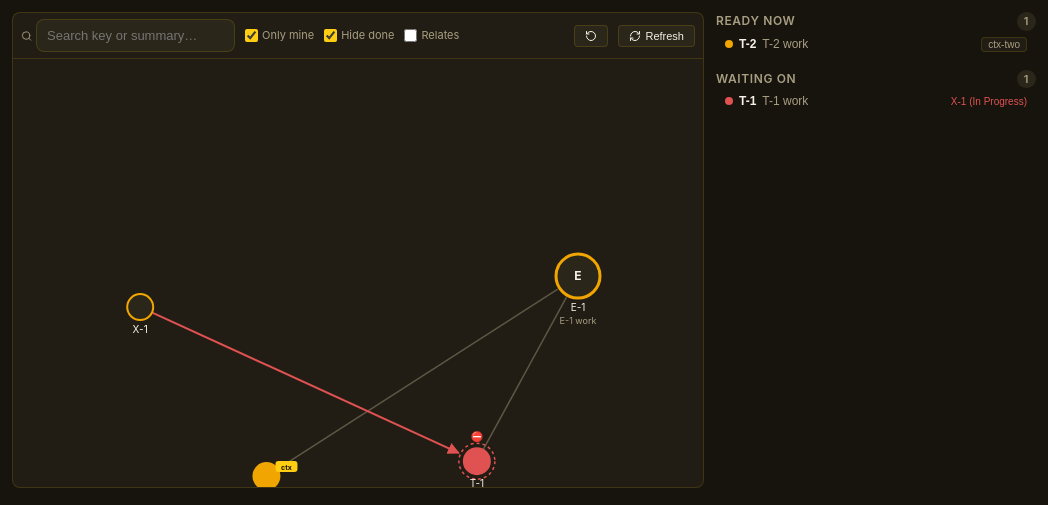
TaskGraphView › Refresh pulls from the tracker and announces newly unblocked issues
Click the button "Refresh" at (657, 36), box [618, 24, 695, 46]
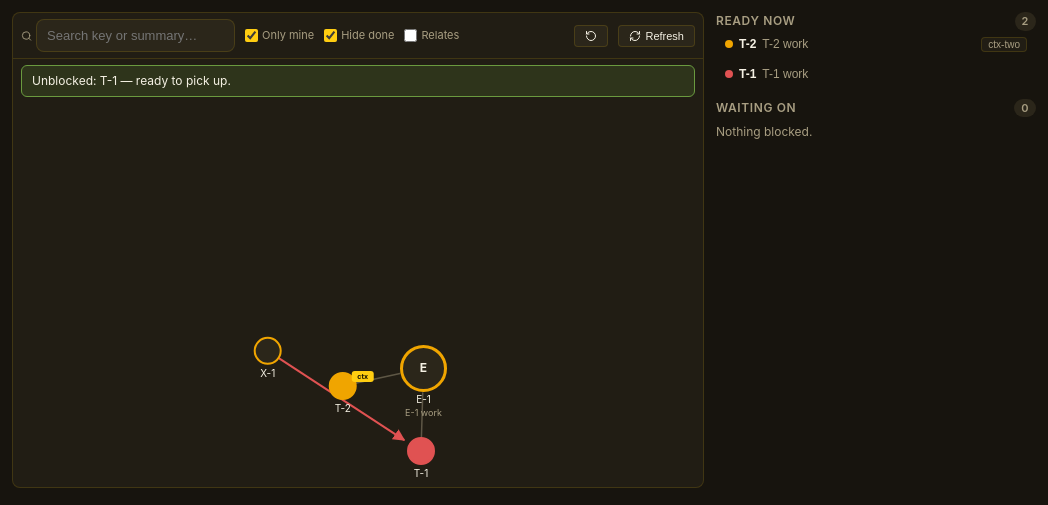
Result: the message shows "Unblocked: T-1" at [21, 65, 695, 97]
